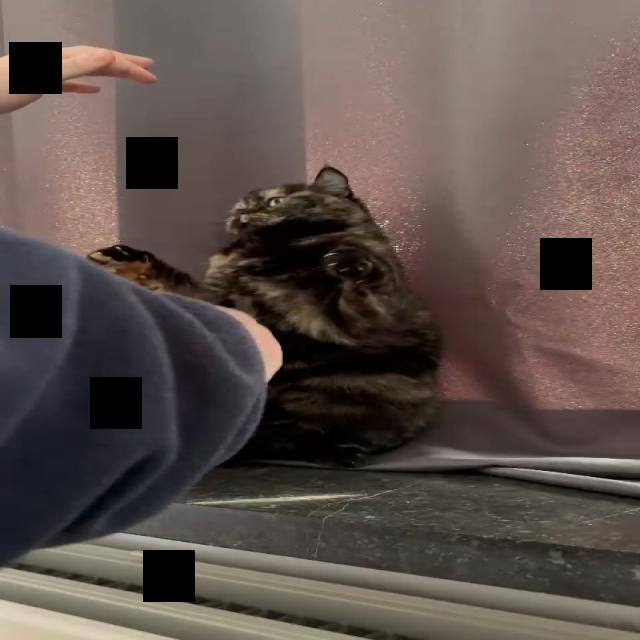authorized: (84, 164, 444, 468)
